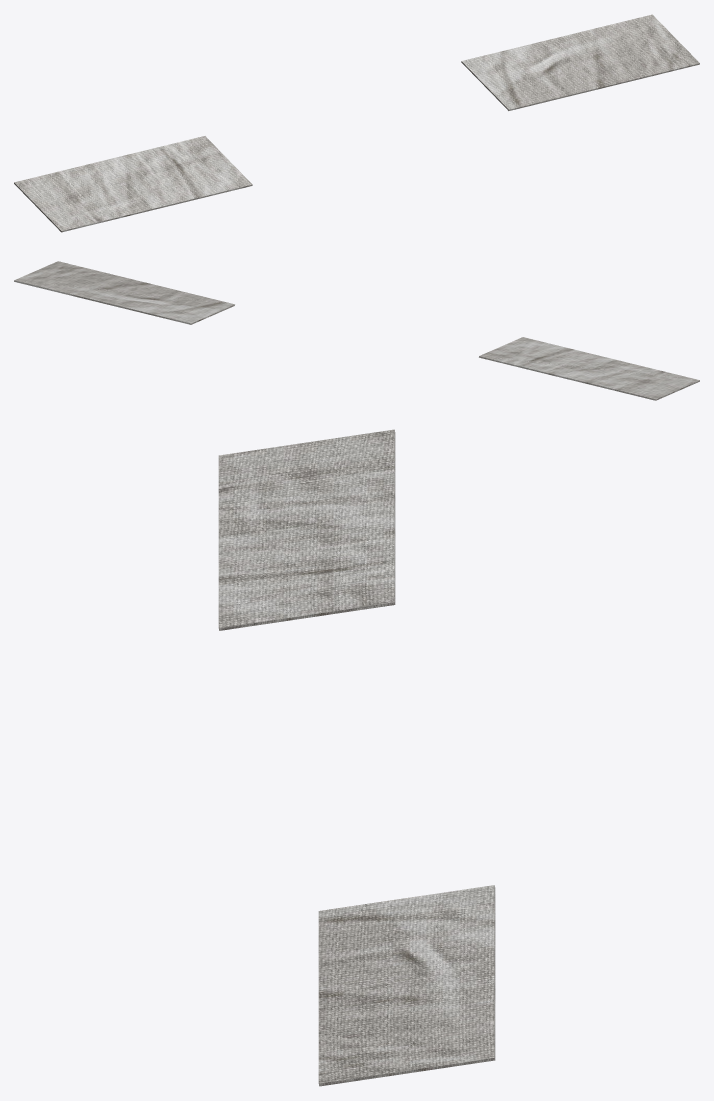
File: smell_paper.fbx
3 views of the same model, one above another, from view 1: azimuth 30°, elevation 25°; view 2: azimuth 150°, elevation 25°; view 3: azimuth 270°, elevation 25° (orthographic). The views are drawn at different scales.
Parts seen in each view (by area): view 1: polySurface1, polySurface2; view 2: polySurface1, polySurface2; view 3: polySurface1, polySurface2.
Boxes of the visible parts, <box> form: polySurface1: <box>461,14,699,110</box>; polySurface2: <box>14,136,252,232</box>; polySurface1: <box>14,261,234,324</box>; polySurface2: <box>479,337,699,400</box>; polySurface1: <box>318,885,495,1086</box>; polySurface2: <box>218,429,395,630</box>.
Size of the model in its own units: 16.51 by 0.7037 by 3.2.
1 material, 1 textured.
